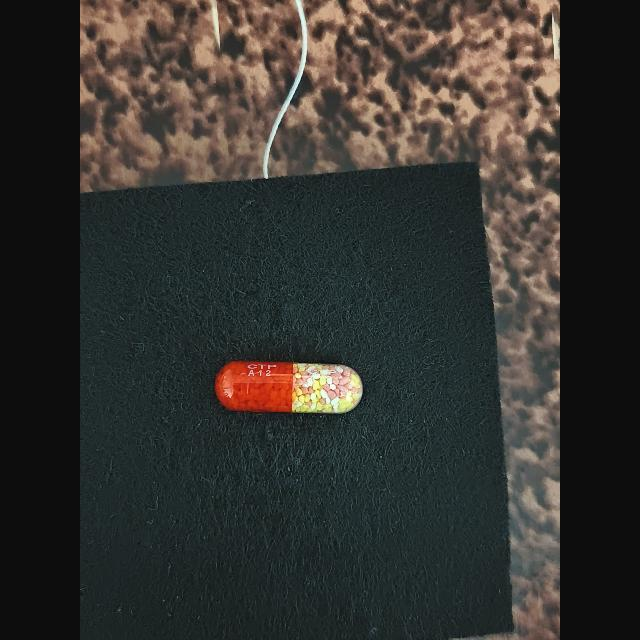Intact Capsule: (215, 361, 363, 413)
